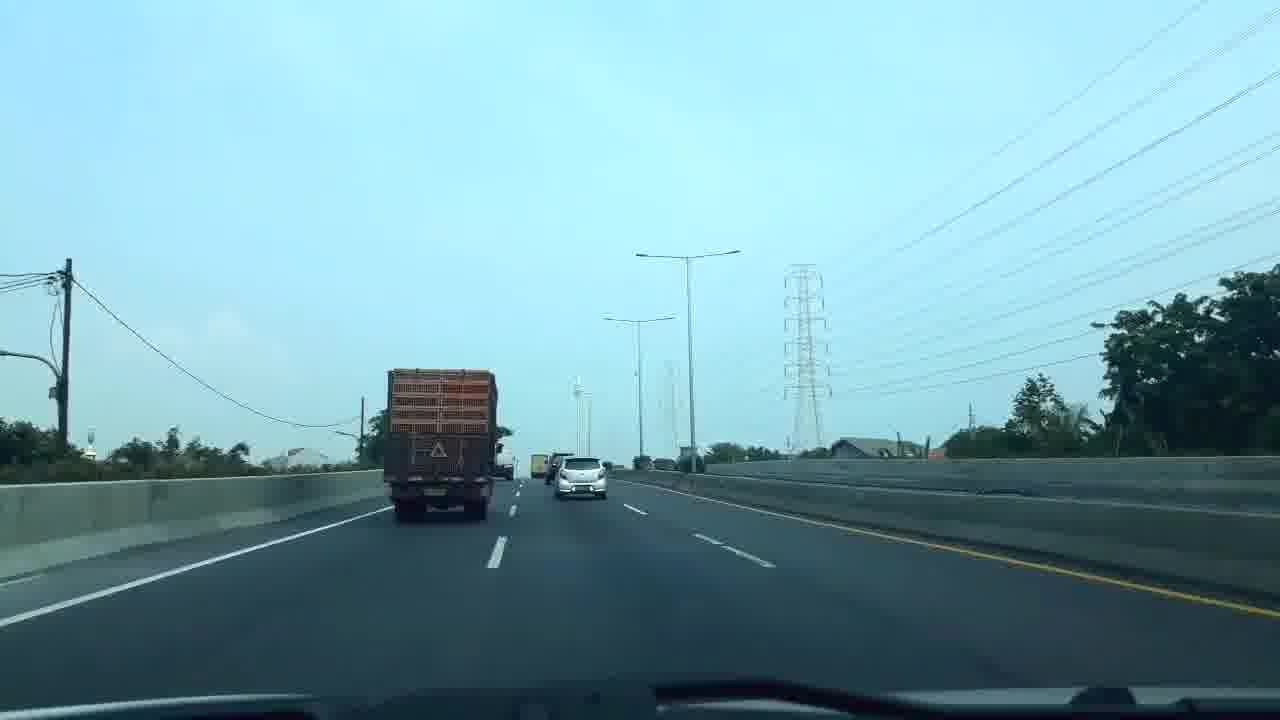plate_positive: (423, 488, 448, 497), (575, 485, 590, 491)
